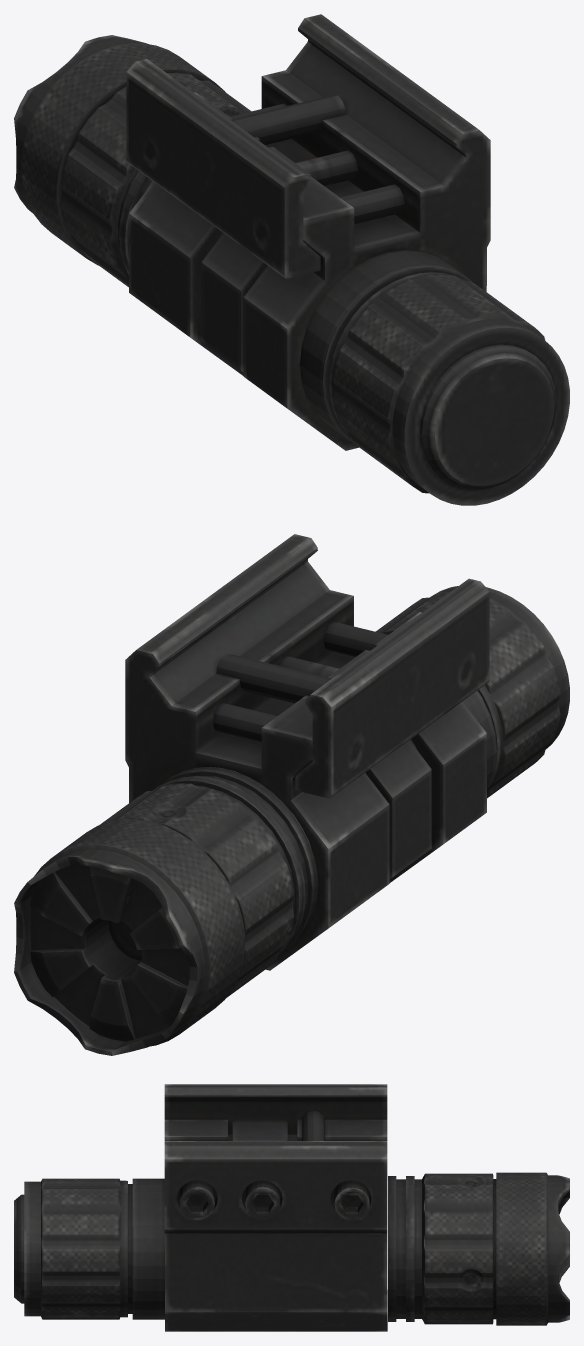
The picture shows the model from 3 angles, top to bottom: view 1: azimuth 30°, elevation 25°; view 2: azimuth 150°, elevation 25°; view 3: azimuth 270°, elevation 25°; orthographic projection. The views are drawn at different scales.
Parts seen in each view (by area): view 1: TW_5cc9c20cd7f00c001336c65d_PZ_Import; view 2: TW_5cc9c20cd7f00c001336c65d_PZ_Import; view 3: TW_5cc9c20cd7f00c001336c65d_PZ_Import.
Part boxes in pixels (x1,y1,x2,y2): TW_5cc9c20cd7f00c001336c65d_PZ_Import: (14, 14, 569, 505); TW_5cc9c20cd7f00c001336c65d_PZ_Import: (14, 534, 569, 1055); TW_5cc9c20cd7f00c001336c65d_PZ_Import: (14, 1084, 569, 1331).
Bounding box in the file's own units: 0.0161 × 0.0511 × 0.0206.
Materials: 1 (1 with a texture image).
